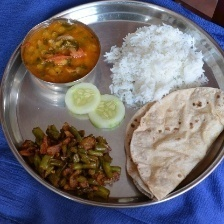rice: (103, 18, 210, 105)
